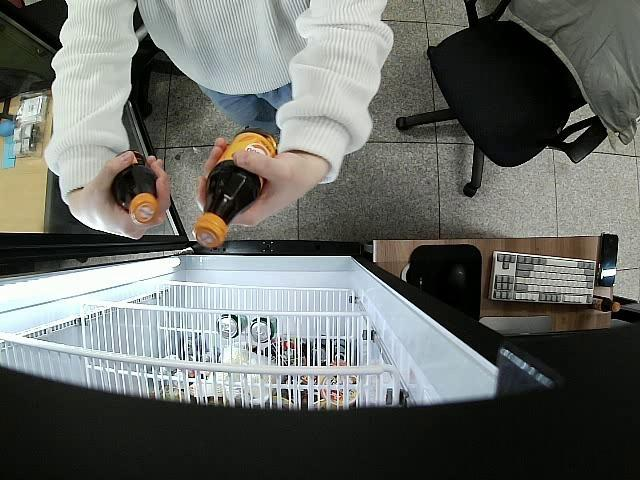17_vita500: (192, 128, 278, 246), (110, 148, 162, 226)
